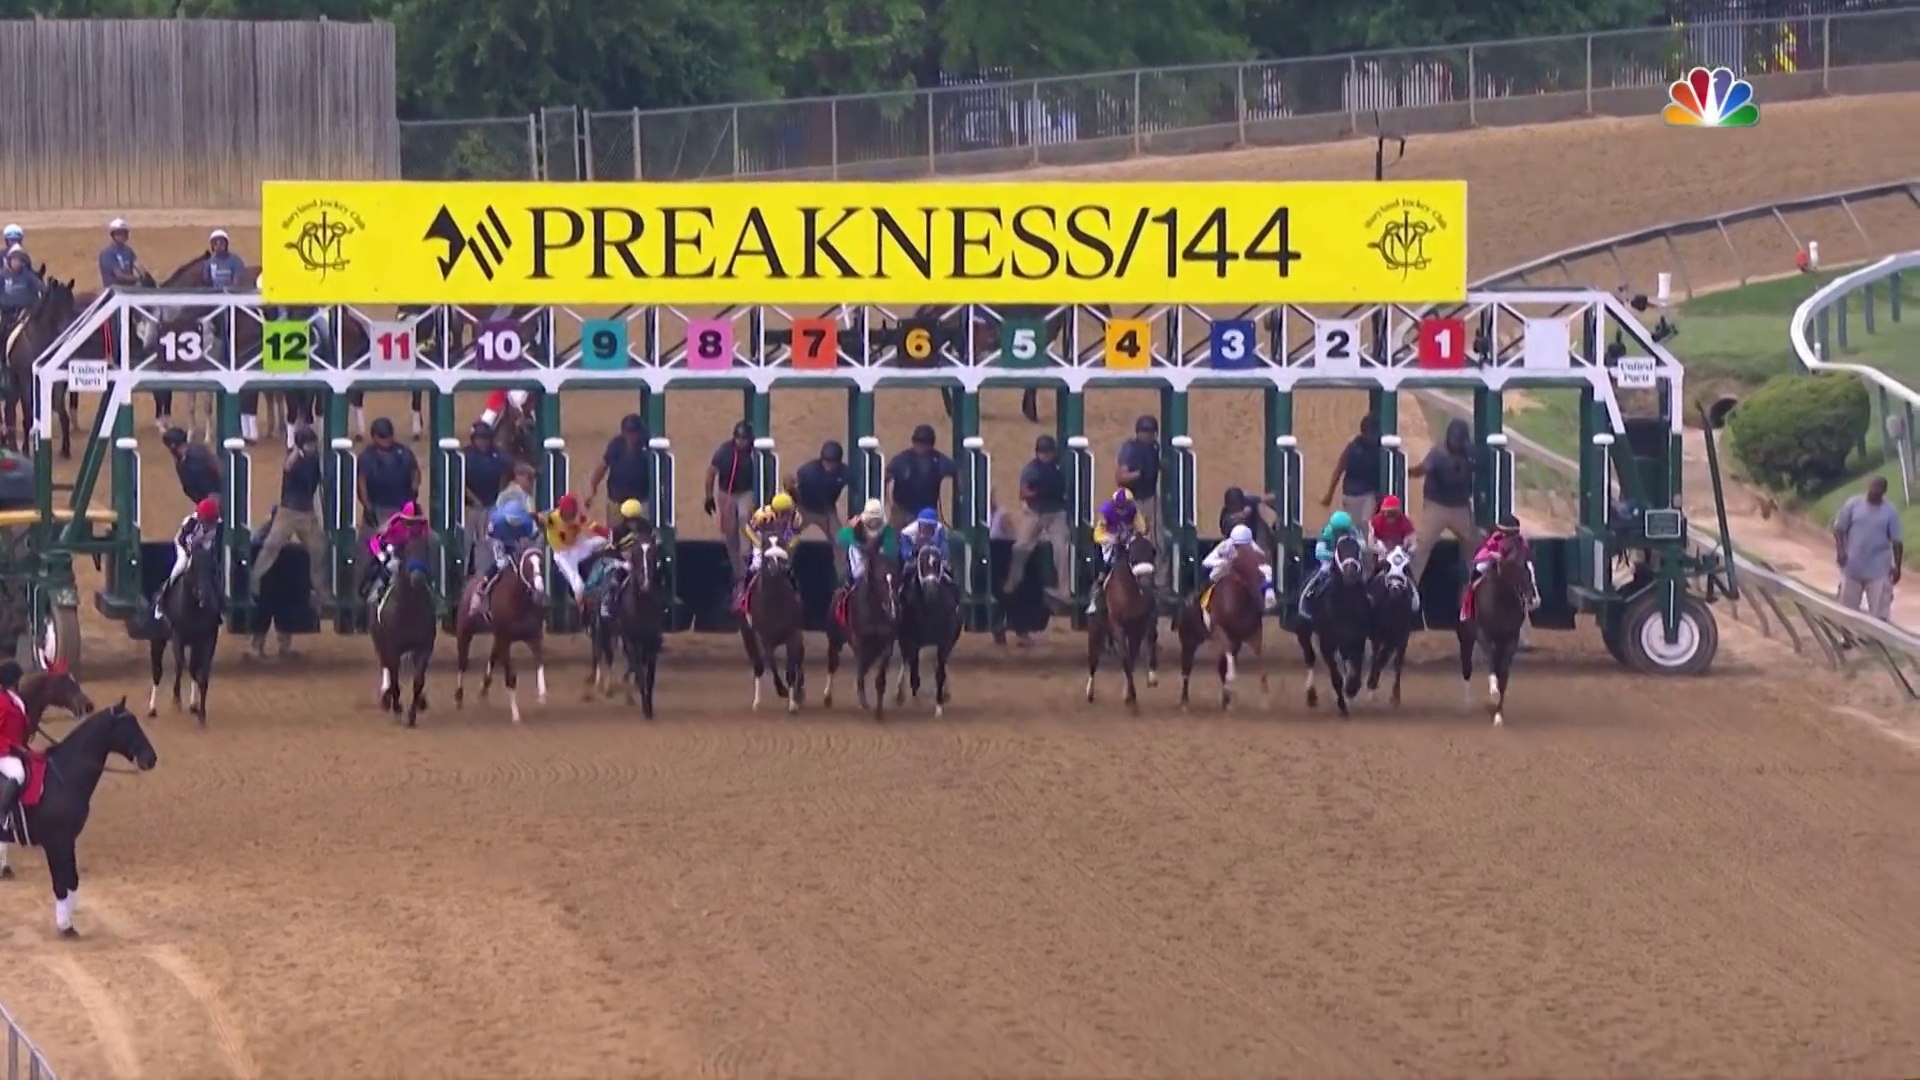jockey: (166, 508, 227, 622), (475, 504, 537, 612), (371, 501, 436, 603), (839, 501, 899, 595), (1307, 506, 1362, 608), (1098, 491, 1149, 597), (1469, 516, 1522, 615), (1199, 525, 1269, 599), (746, 493, 796, 596), (898, 505, 947, 607), (1370, 495, 1410, 595)
